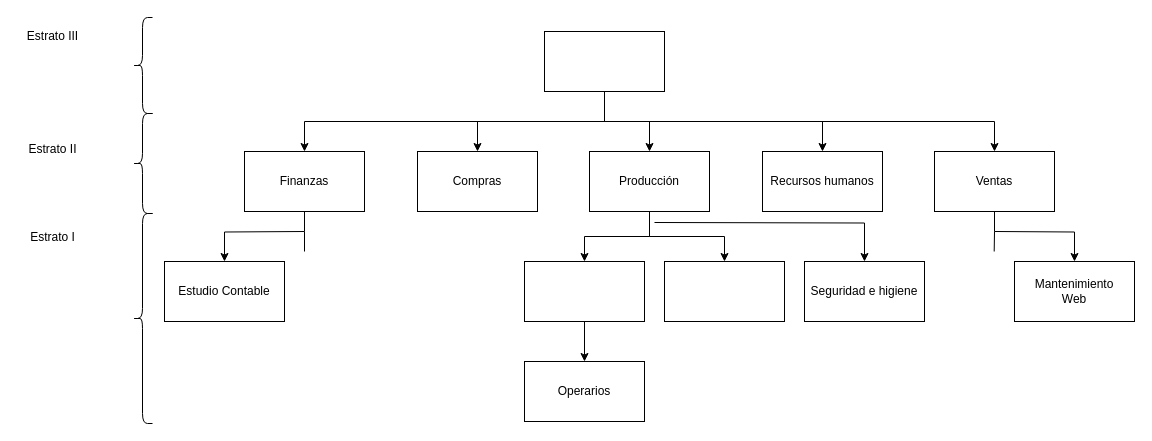
Some shapes in this 1152 by 441 pixel diagram are drawn without their labels. The centre of each missing label's shape, as x and y in pixels:
Director General Propietario: pixel 604 61
Encargado de Mantenimiento: pixel 724 291
Encargado de Producción: pixel 584 291
